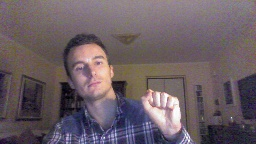Pugno: (138, 87, 184, 133)
